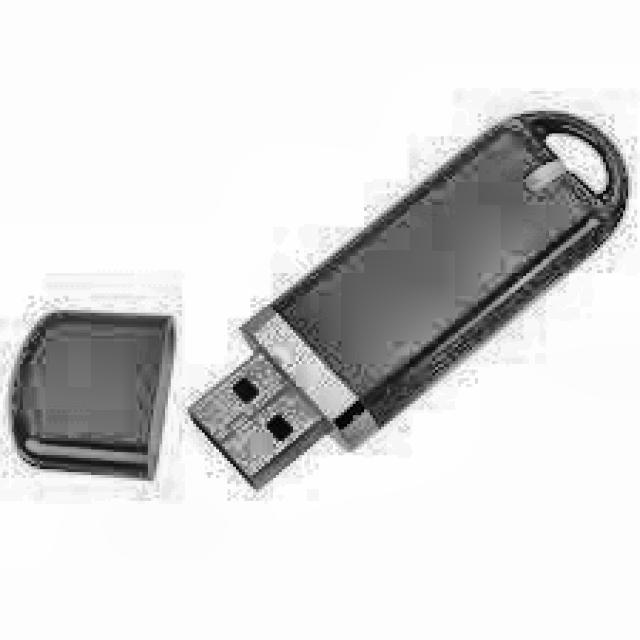Mug: (181, 103, 633, 498)
